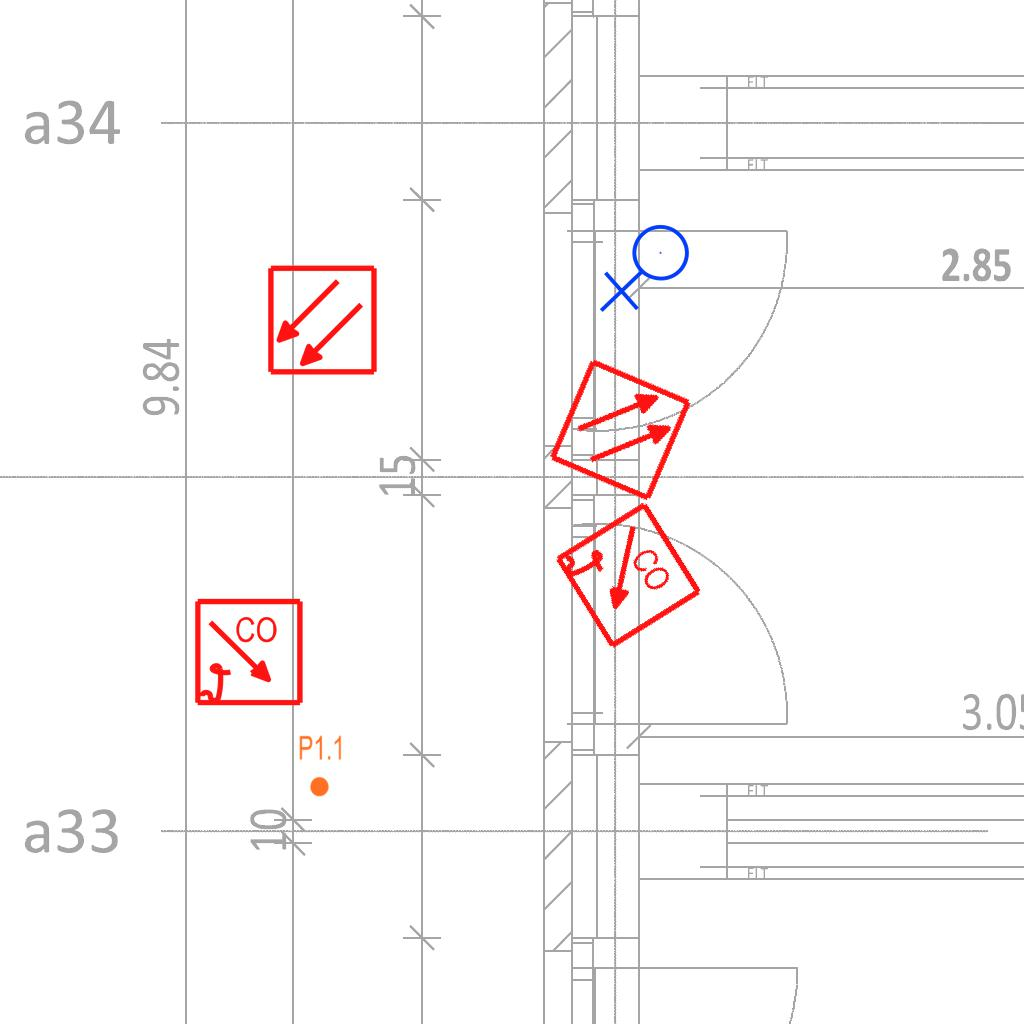Downlight_LED_Einbauleuchten_Flur_2: (298, 734, 344, 798)
Elektroanschluss_allgemein_230V_Geraeteanschlussdose_230V: (599, 223, 698, 317)
RMO_Rauchmelder_optischer: (546, 355, 695, 504), (266, 264, 379, 377)
ROA_Rauchmelder_optisch_mit_Signalgeber_(Sockelsirene): (549, 498, 706, 655), (193, 597, 306, 710)
